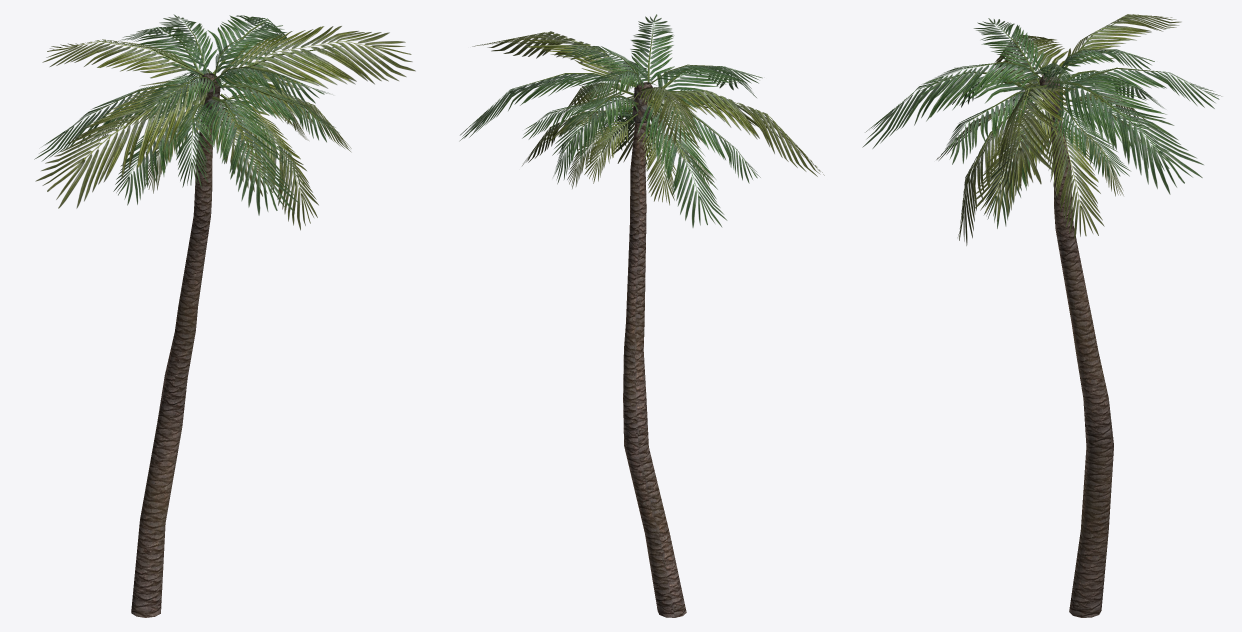
The model's file is bent_a.glb.
The picture shows the model from 3 angles, left to right: view 1: azimuth 30°, elevation 25°; view 2: azimuth 150°, elevation 25°; view 3: azimuth 270°, elevation 25°; orthographic projection. The views are drawn at different scales.
Visible parts, largest first — view 1: Palm_002_w; view 2: Palm_002_w; view 3: Palm_002_w.
Part boxes in pixels (<box>): Palm_002_w: <box>34,14,415,617</box>; Palm_002_w: <box>459,14,824,617</box>; Palm_002_w: <box>862,14,1221,617</box>.
Size of the model in its own units: 7.08 by 10 by 5.65.
Materials: 1 (1 with a texture image).
